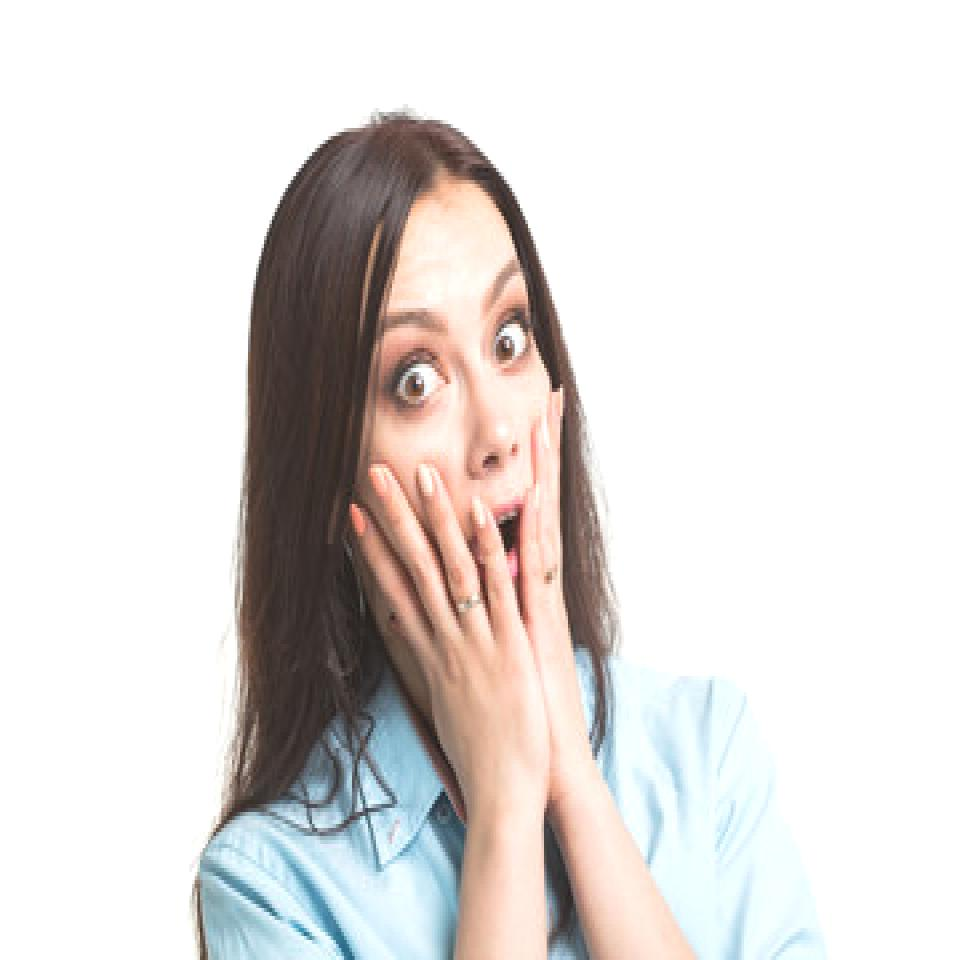Scared: (354, 178, 567, 714)
